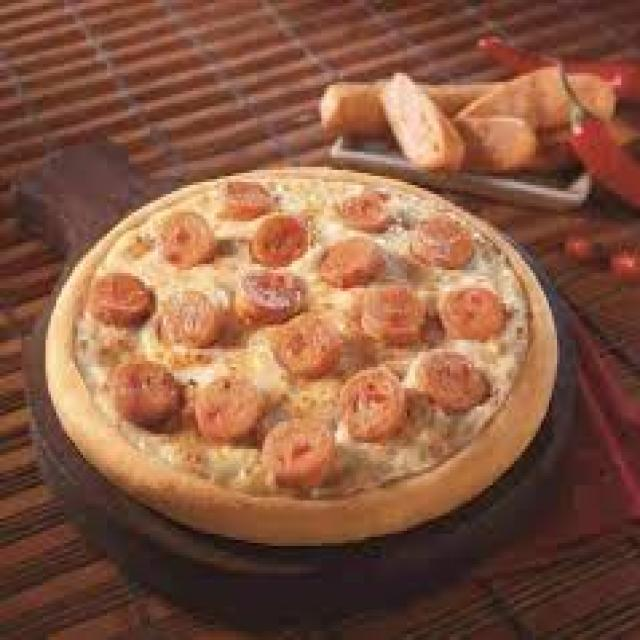피자: (40, 167, 562, 552)
